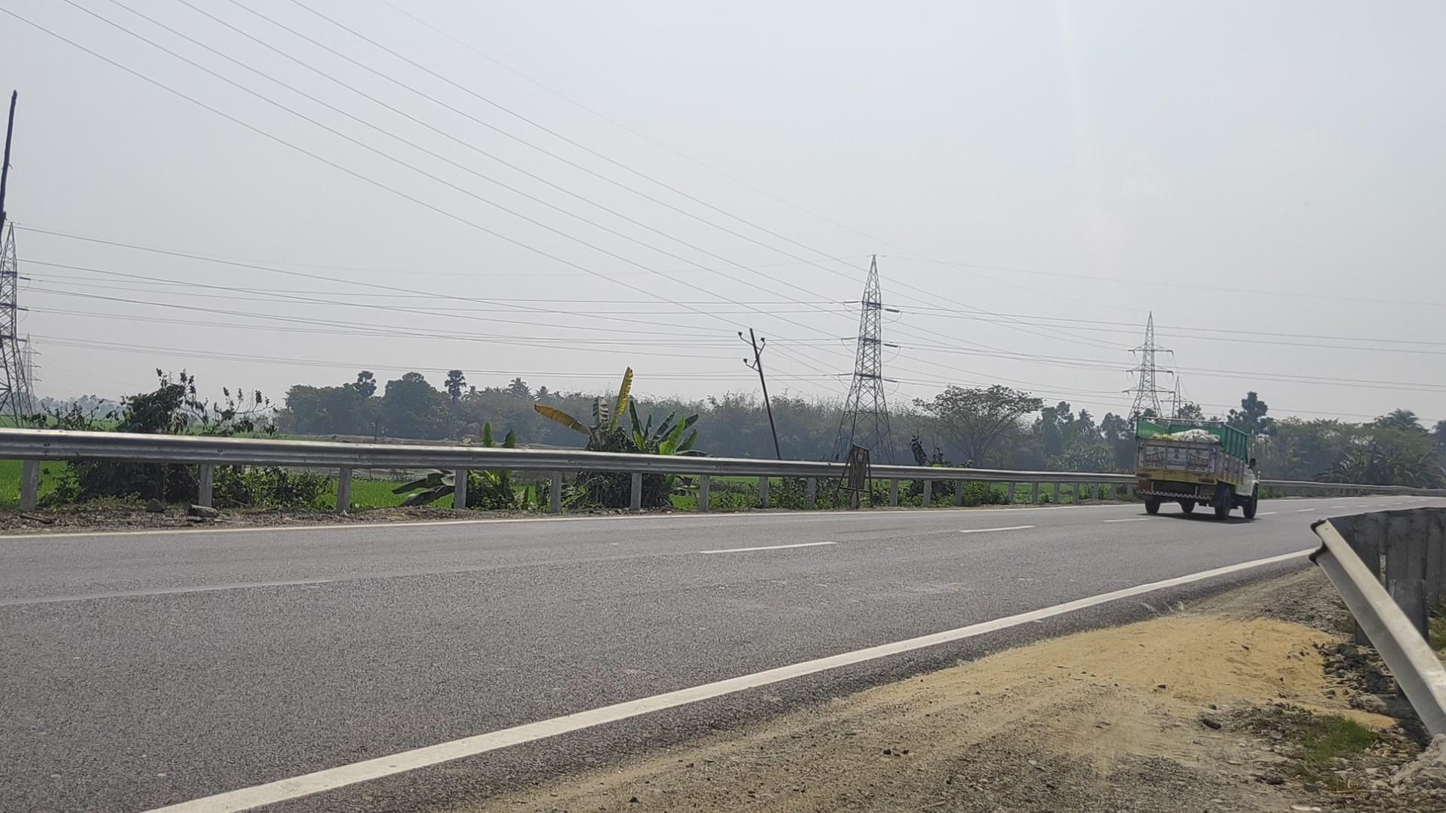van: (1135, 413, 1261, 520)
